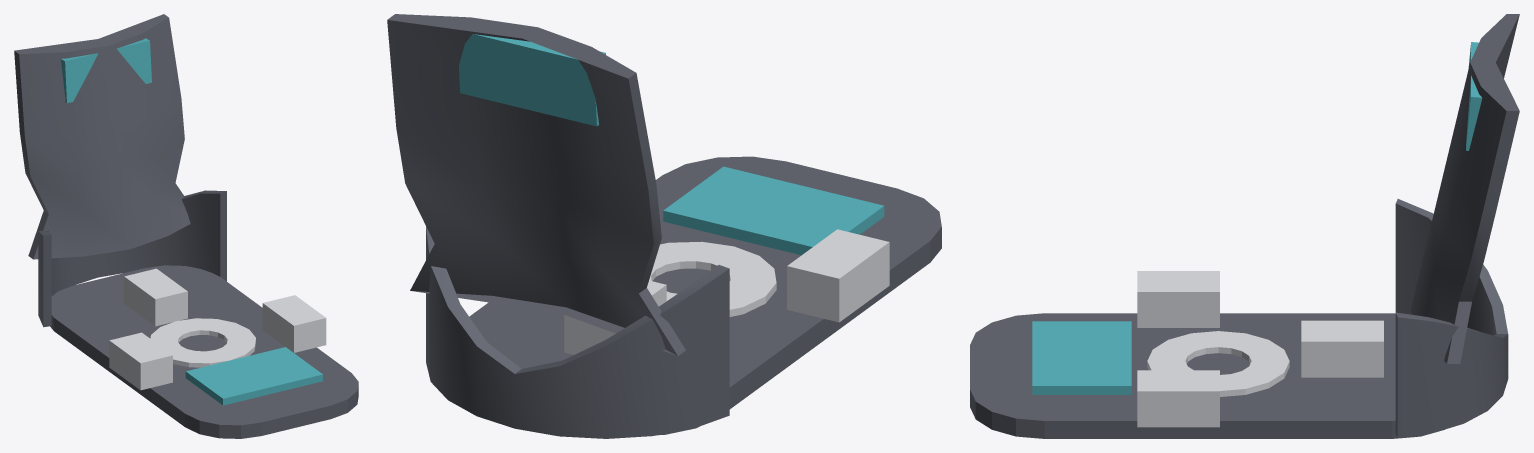
File: snowboard-gear-and-freestyle-riders-step-on-binding-eb8be049__27148.glb
The picture shows the model from 3 angles, left to right: view 1: azimuth 30°, elevation 25°; view 2: azimuth 150°, elevation 25°; view 3: azimuth 270°, elevation 25°; orthographic projection. The views are drawn at different scales.
Parts seen in each view (by area): view 1: step-on-binding; view 2: step-on-binding; view 3: step-on-binding.
Part boxes in pixels (x1,y1,x2,y2): step-on-binding: [14, 14, 358, 438]; step-on-binding: [387, 14, 941, 438]; step-on-binding: [970, 14, 1519, 438].
Bounding box in the file's own units: 0.1717 × 0.215 × 0.332.
